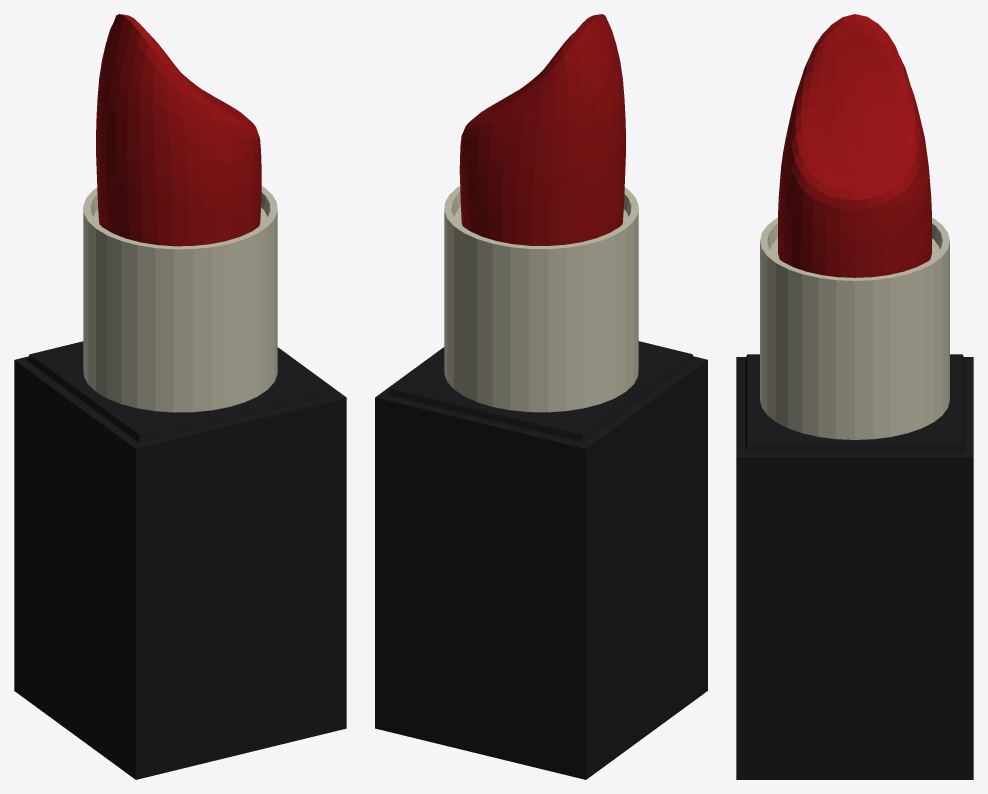
File: lipstick.glb
The picture shows the model from 3 angles, left to right: view 1: azimuth 30°, elevation 25°; view 2: azimuth 150°, elevation 25°; view 3: azimuth 270°, elevation 25°; orthographic projection. The views are drawn at different scales.
Visible parts, largest first — view 1: Cube, Cylinder, Cylinder.001; view 2: Cube, Cylinder, Cylinder.001; view 3: Cube, Cylinder.001, Cylinder.
Boxes of the visible parts, box(x1,y1,x2,y2) form: Cube: box(14, 341, 346, 779); Cylinder: box(83, 186, 277, 412); Cylinder.001: box(96, 14, 261, 246); Cube: box(375, 341, 707, 779); Cylinder: box(444, 186, 638, 412); Cylinder.001: box(459, 14, 625, 245); Cube: box(736, 354, 973, 779); Cylinder.001: box(778, 14, 931, 277); Cylinder: box(760, 217, 949, 439).
Size of the model in its own units: 2 by 6.41 by 2.
